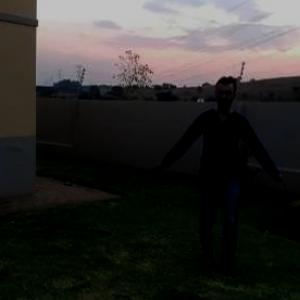land: (163, 73, 297, 280)
